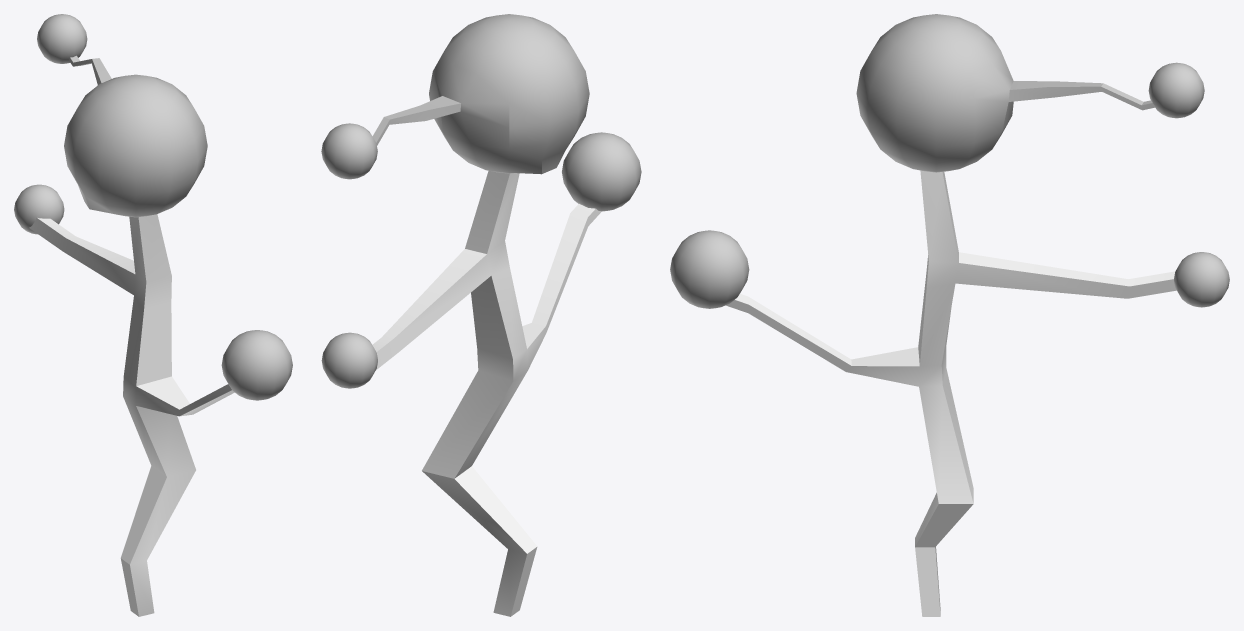
File: ARVORES.fbx
3 views of the same model, side by side, from view 1: azimuth 30°, elevation 25°; view 2: azimuth 150°, elevation 25°; view 3: azimuth 270°, elevation 25° (orthographic). The views are drawn at different scales.
Visible parts, largest first — view 1: Arvore; view 2: Arvore; view 3: Arvore.
Boxes of the visible parts, left/top/right/bottom form: Arvore: left=14, top=14, right=292, bottom=616; Arvore: left=321, top=14, right=641, bottom=616; Arvore: left=670, top=14, right=1229, bottom=616.
Bounding box in the file's own units: 107 × 437 × 376.
